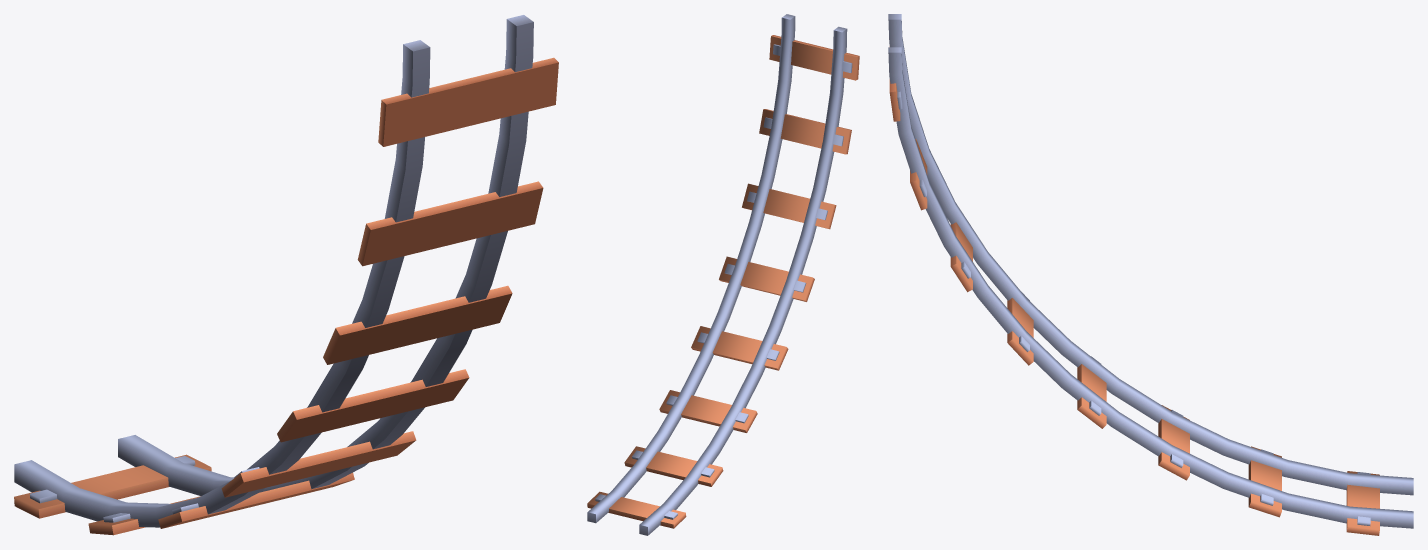
Rendered from kenney-train-railroad-straight-bend-large.glb.
3 renders of one model, left to right at view 1: azimuth 30°, elevation 25°; view 2: azimuth 150°, elevation 25°; view 3: azimuth 270°, elevation 25°, orthographic. The views are drawn at different scales.
Parts seen in each view (by area): view 1: railroad-straight-bend-large; view 2: railroad-straight-bend-large; view 3: railroad-straight-bend-large.
Part boxes in pixels (box(x1,y1,x2,y2)): railroad-straight-bend-large: box(14, 15, 558, 535); railroad-straight-bend-large: box(587, 14, 859, 535); railroad-straight-bend-large: box(888, 14, 1413, 535).
Size of the model in its own units: 1 by 4 by 4.
1 material, 1 textured.
